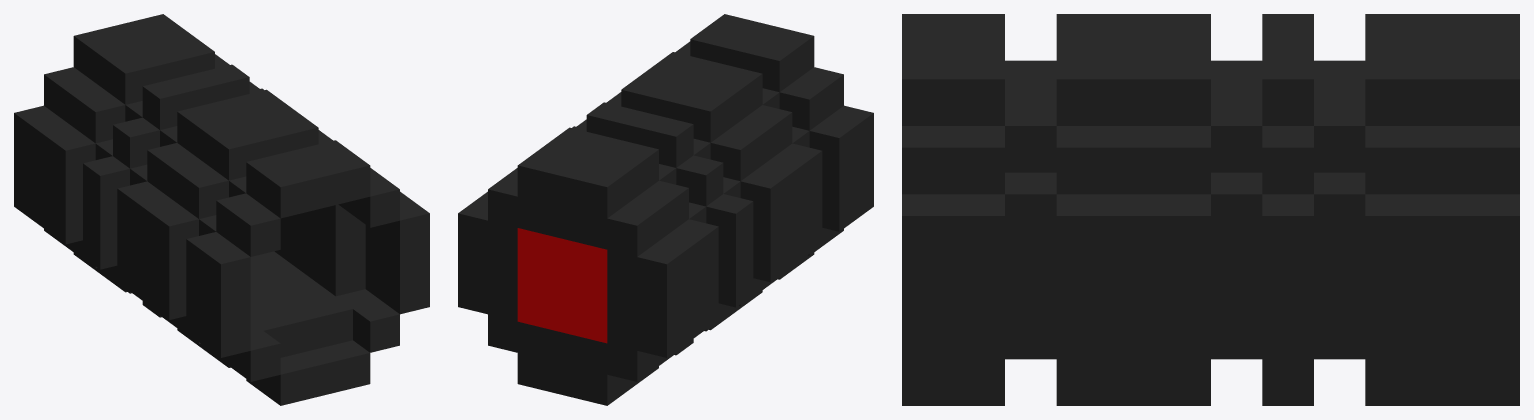
Rendered from CanonXother-15-StarMarine_Canon1_R.obj.
The picture shows the model from 3 angles, left to right: view 1: azimuth 30°, elevation 25°; view 2: azimuth 150°, elevation 25°; view 3: azimuth 270°, elevation 25°; orthographic projection. The views are drawn at different scales.
Visible parts, largest first — view 1: StarMarine_Canon1_R; view 2: StarMarine_Canon1_R; view 3: StarMarine_Canon1_R.
Boxes of the visible parts, x1,y1,x2,y2 form: StarMarine_Canon1_R: (14, 14, 429, 405); StarMarine_Canon1_R: (458, 14, 873, 405); StarMarine_Canon1_R: (902, 14, 1519, 405).
Bounding box in the file's own units: 0.7 × 0.7 × 1.2.
